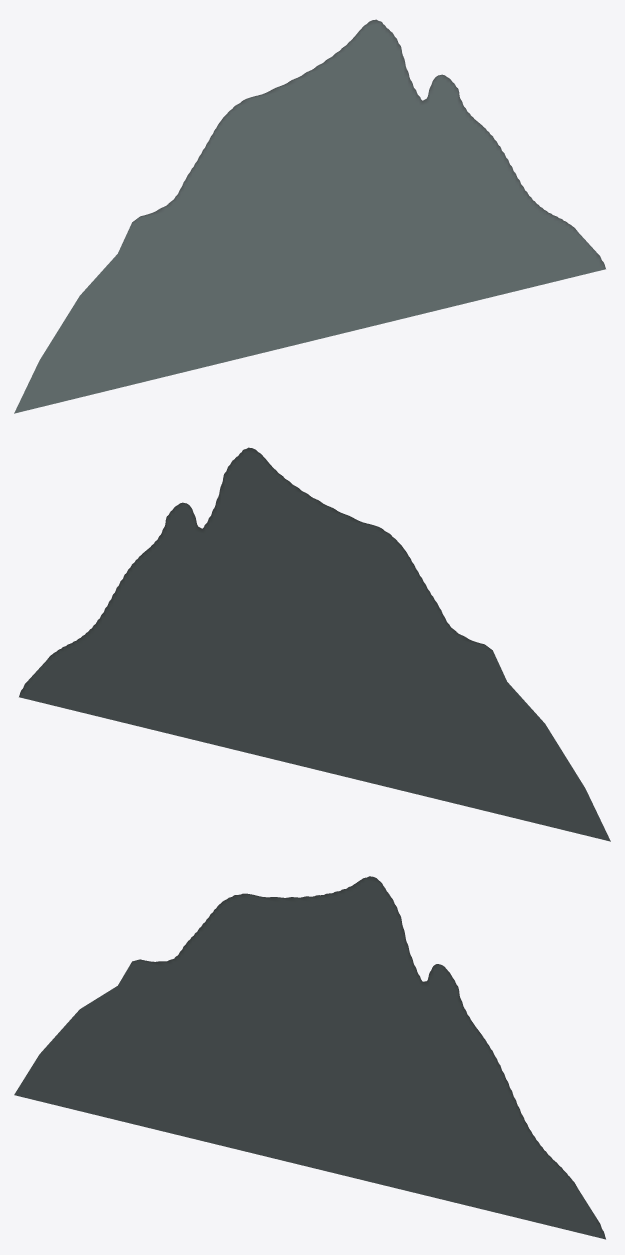
The model's file is outside_model_04_mountain003.FBX.
3 views of the same model, one above another, from view 1: azimuth 30°, elevation 25°; view 2: azimuth 150°, elevation 25°; view 3: azimuth 330°, elevation 25° (orthographic).
Visible parts, largest first — view 1: outside_model_04_mountain003; view 2: outside_model_04_mountain003; view 3: outside_model_04_mountain003.
Part boxes in pixels (x1=…): outside_model_04_mountain003: x1=14, y1=19, x2=605, y2=413; outside_model_04_mountain003: x1=19, y1=447, x2=610, y2=841; outside_model_04_mountain003: x1=14, y1=876, x2=605, y2=1239.
Size of the model in its own units: 4.16 by 2.08 by 1.12e-06.
